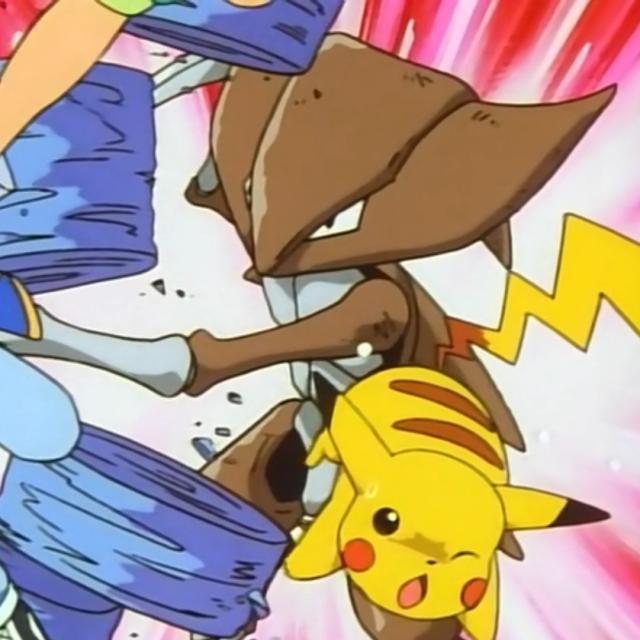Kabutops: (206, 45, 522, 360)
Pikachu: (318, 370, 522, 636)
